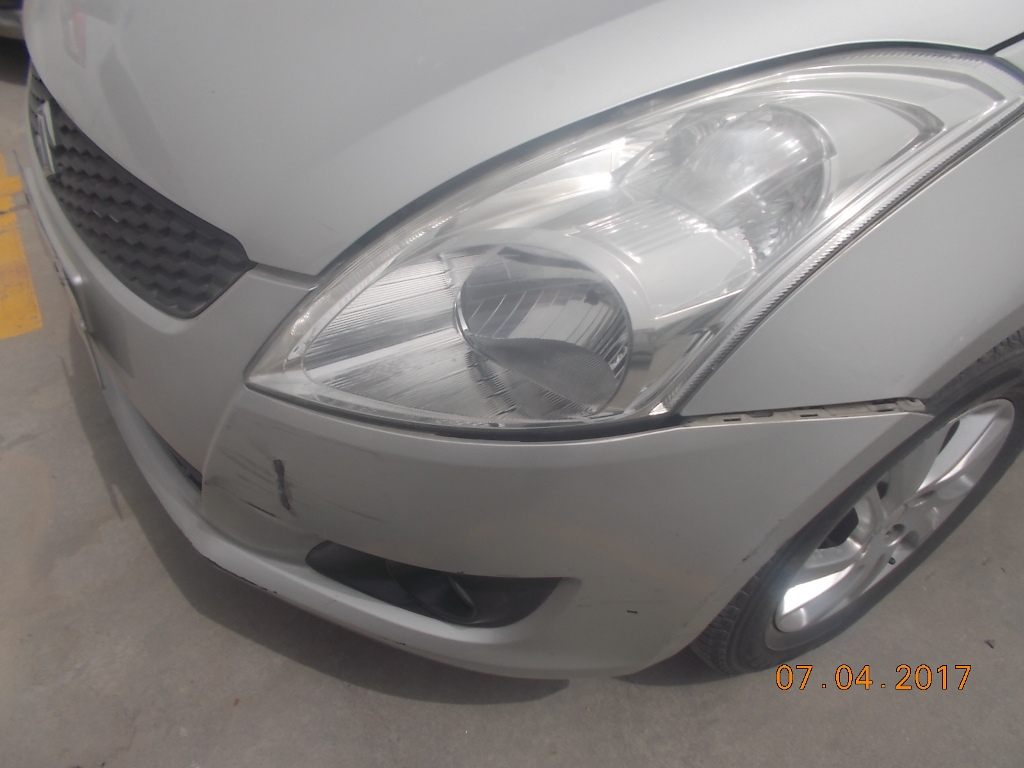Scratch_or_spot: (270, 448, 301, 522), (246, 498, 267, 525)
